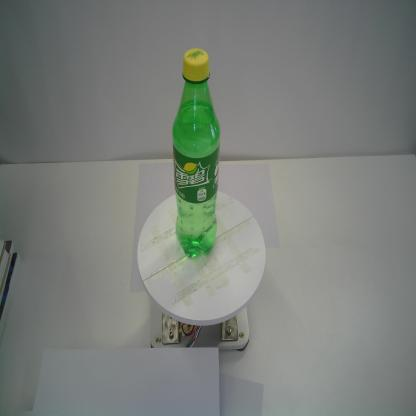Drink: (172, 47, 220, 260)
